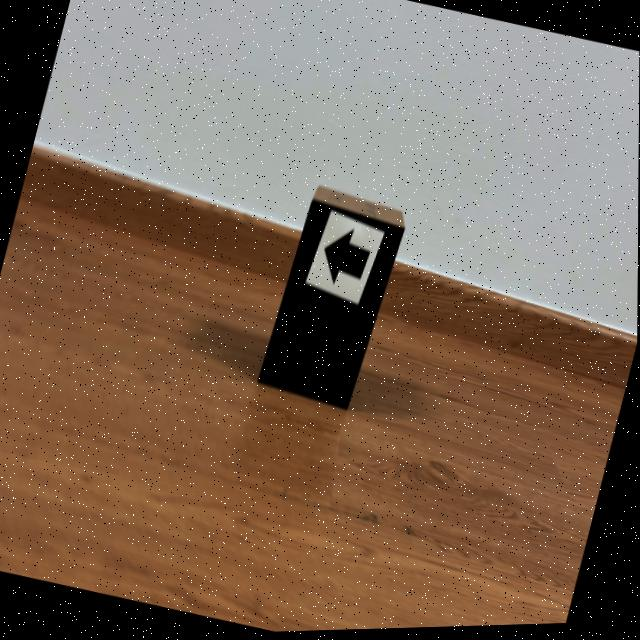LEFT: (325, 233, 370, 285)
